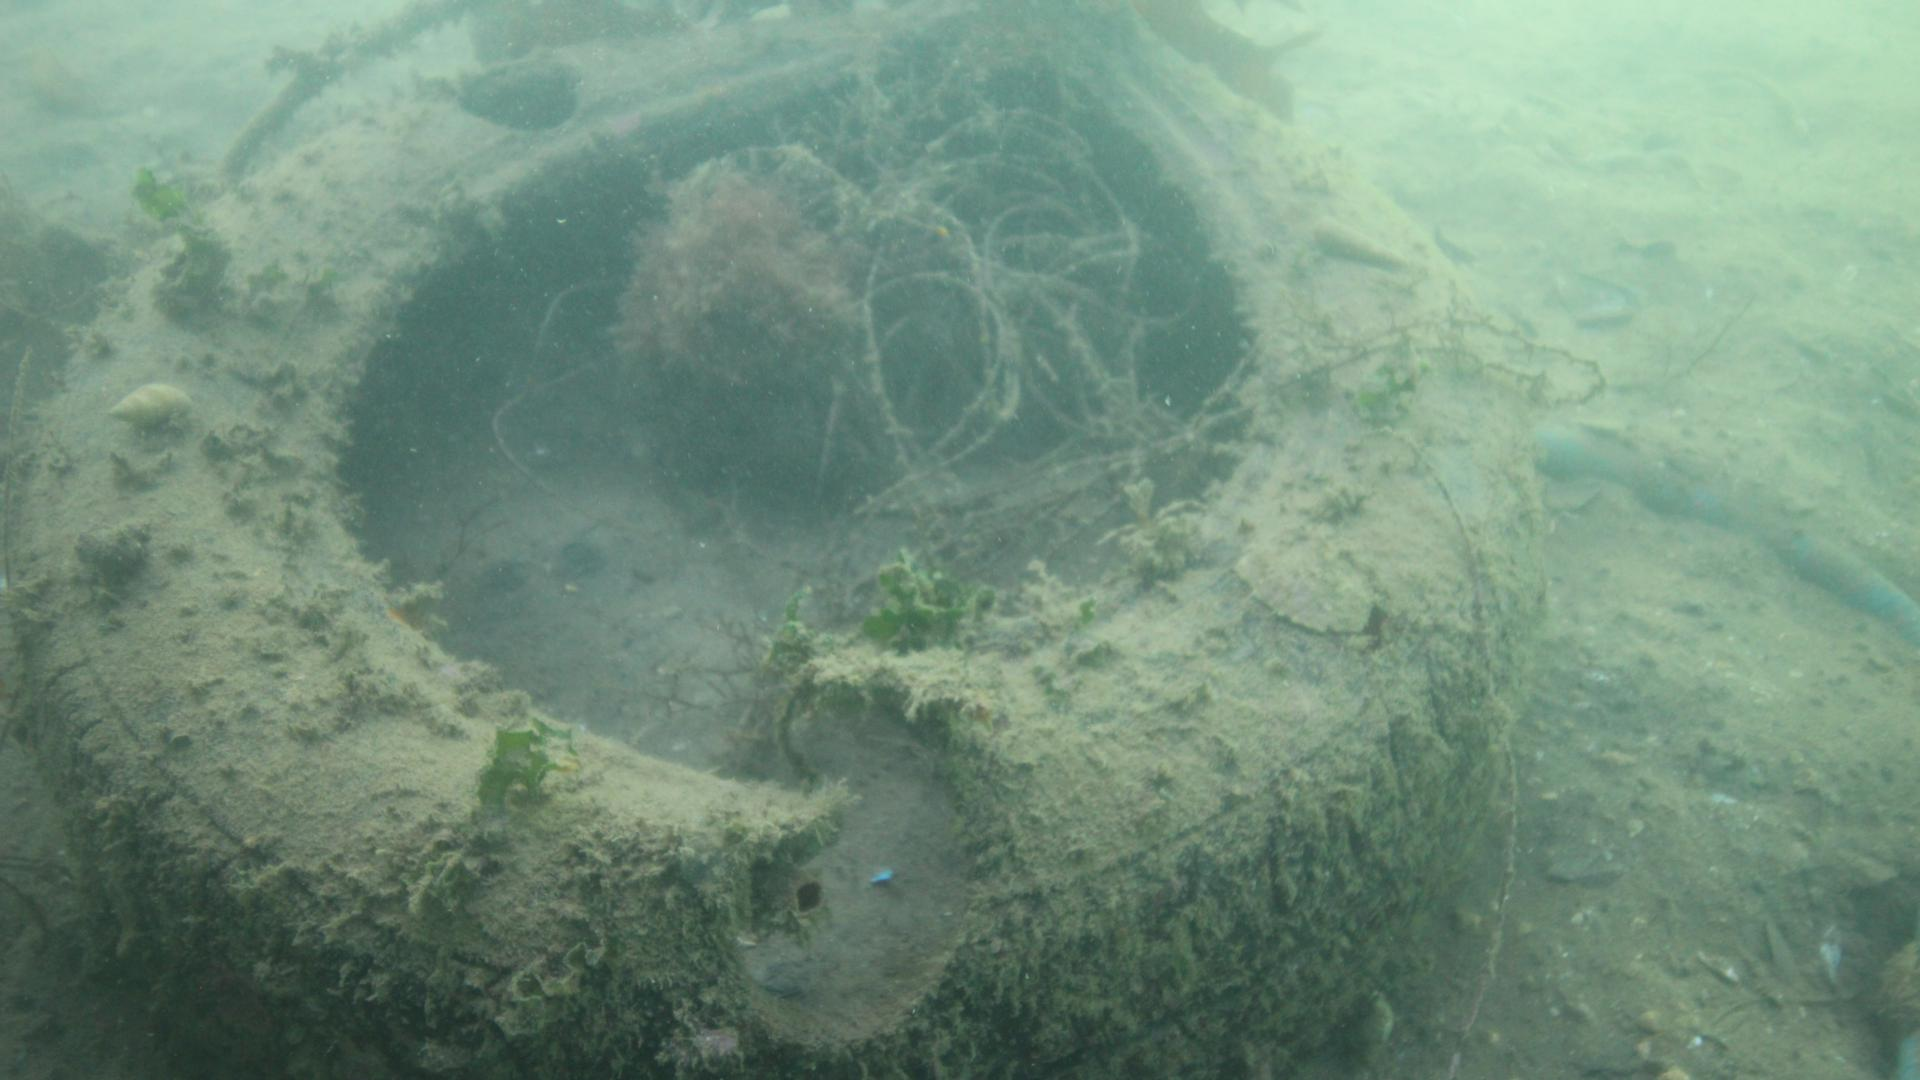tire: (4, 0, 1523, 1080)
